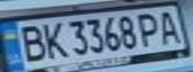3: (84, 16, 106, 54), (66, 17, 87, 56)
6: (103, 14, 124, 52)
8: (118, 12, 142, 51)
A: (154, 8, 184, 45)
B: (12, 21, 48, 63)
K: (36, 19, 69, 60)
P: (133, 10, 163, 47)
